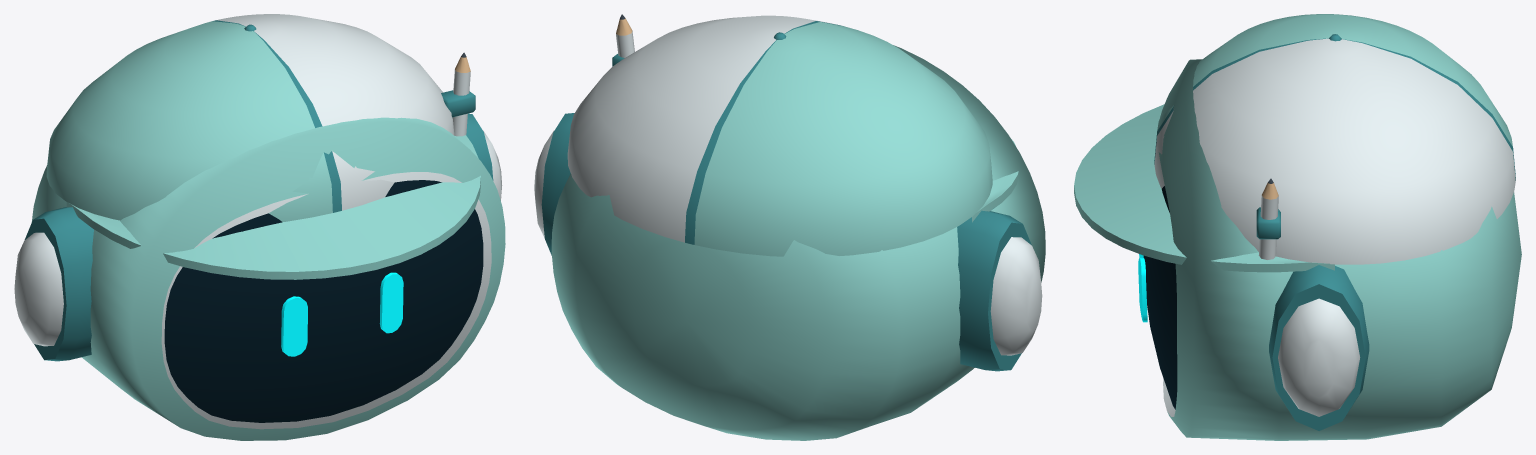
Rendered from copilot_analyst_v01.glb.
3 views of the same model, side by side, from view 1: azimuth 30°, elevation 25°; view 2: azimuth 150°, elevation 25°; view 3: azimuth 270°, elevation 25° (orthographic). The views are drawn at different scales.
Parts seen in each view (by area): view 1: analyst_model; view 2: analyst_model; view 3: analyst_model.
Boxes of the visible parts, x1,y1,x2,y2 form: analyst_model: [14, 14, 505, 440]; analyst_model: [534, 14, 1045, 440]; analyst_model: [1074, 14, 1521, 440].
Bounding box in the file's own units: 2.82 × 2.02 × 2.23.
Materials: 2 (2 with a texture image).
